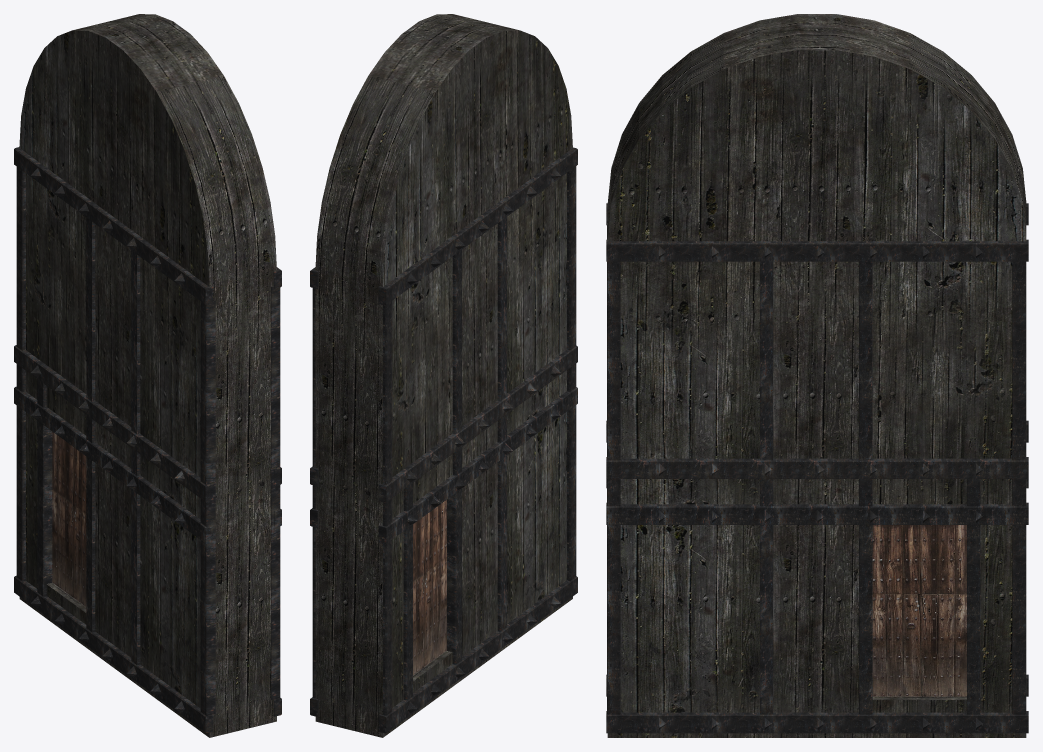
Rendered from CastleWall_Door.fbx.
3 renders of one model, left to right at view 1: azimuth 30°, elevation 25°; view 2: azimuth 150°, elevation 25°; view 3: azimuth 270°, elevation 25°, orthographic. The views are drawn at different scales.
Visible parts, largest first — view 1: CastleWall_Door; view 2: CastleWall_Door; view 3: CastleWall_Door.
Part boxes in pixels (x1,y1,x2,y2): CastleWall_Door: (14,14,281,737); CastleWall_Door: (310,14,577,737); CastleWall_Door: (606,14,1028,737).
Bounding box in the file's own units: 135 × 886 × 493.
